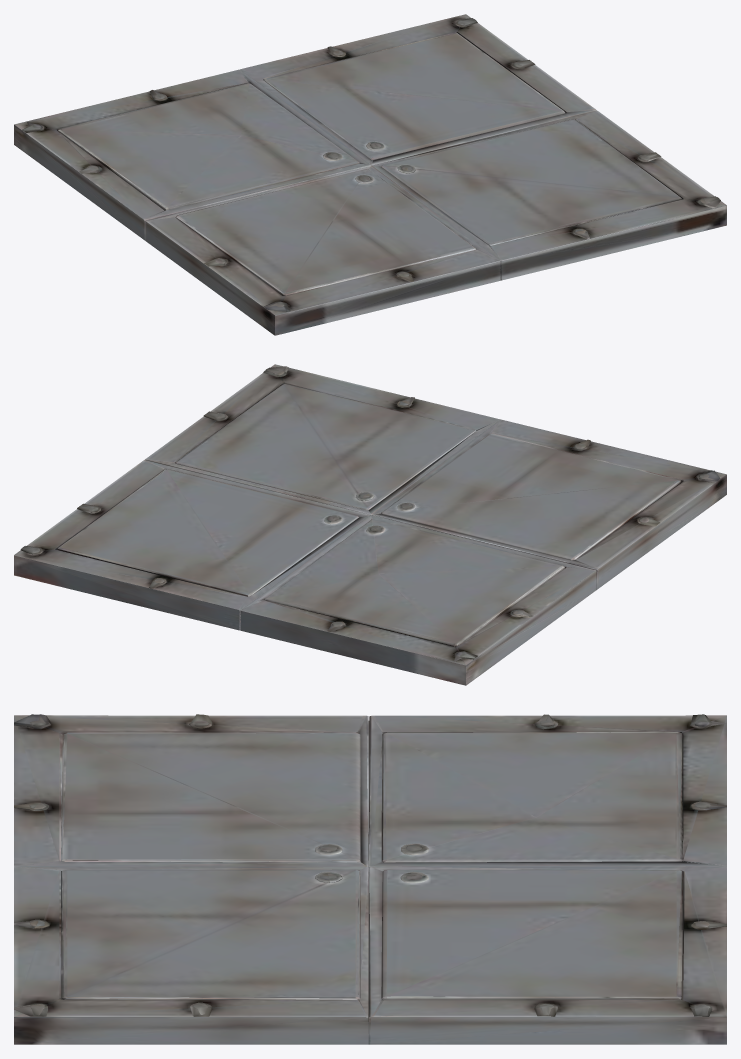
The model's file is floor-plate.glb.
3 renders of one model, top to bottom at view 1: azimuth 30°, elevation 25°; view 2: azimuth 150°, elevation 25°; view 3: azimuth 270°, elevation 25°, orthographic. The views are drawn at different scales.
Bounding box in the file's own units: 2 × 0.1 × 2.
Materials: 1 (1 with a texture image).
